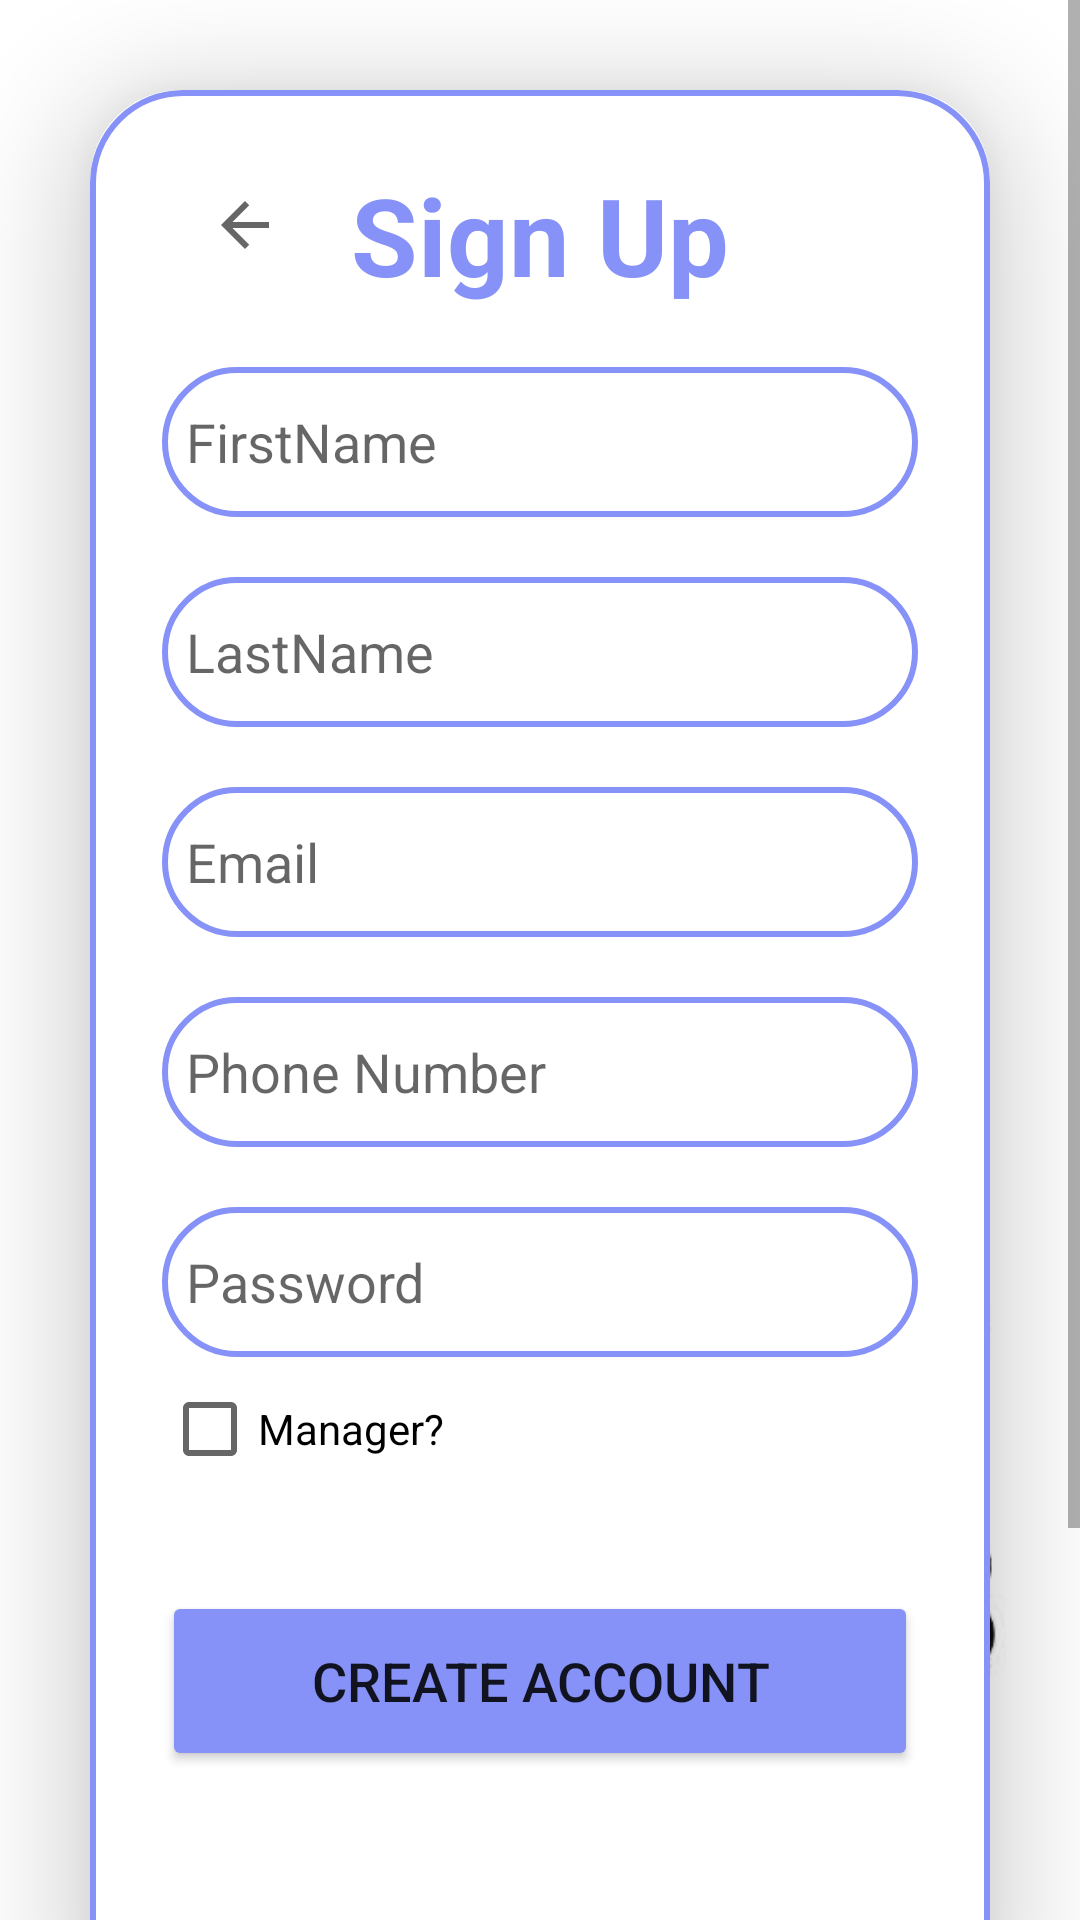

Named icons in this screenshot (1080*1920) and their bounding boxes, (x1, y1, x2, y2):
custom back arrow: (221, 201, 269, 249)
